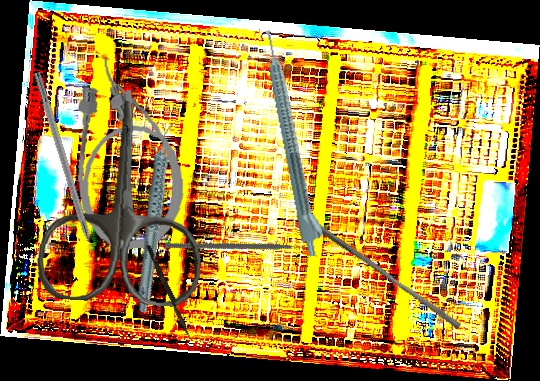Cannula: (69, 52, 188, 252)
Chopper: (163, 179, 319, 323)
Handpiece: (100, 122, 214, 314), (260, 27, 330, 258)
Hook Surgical: (31, 71, 103, 273)
Iris Scissors: (33, 84, 214, 309)
Pusher: (300, 216, 465, 330), (143, 244, 196, 341)
